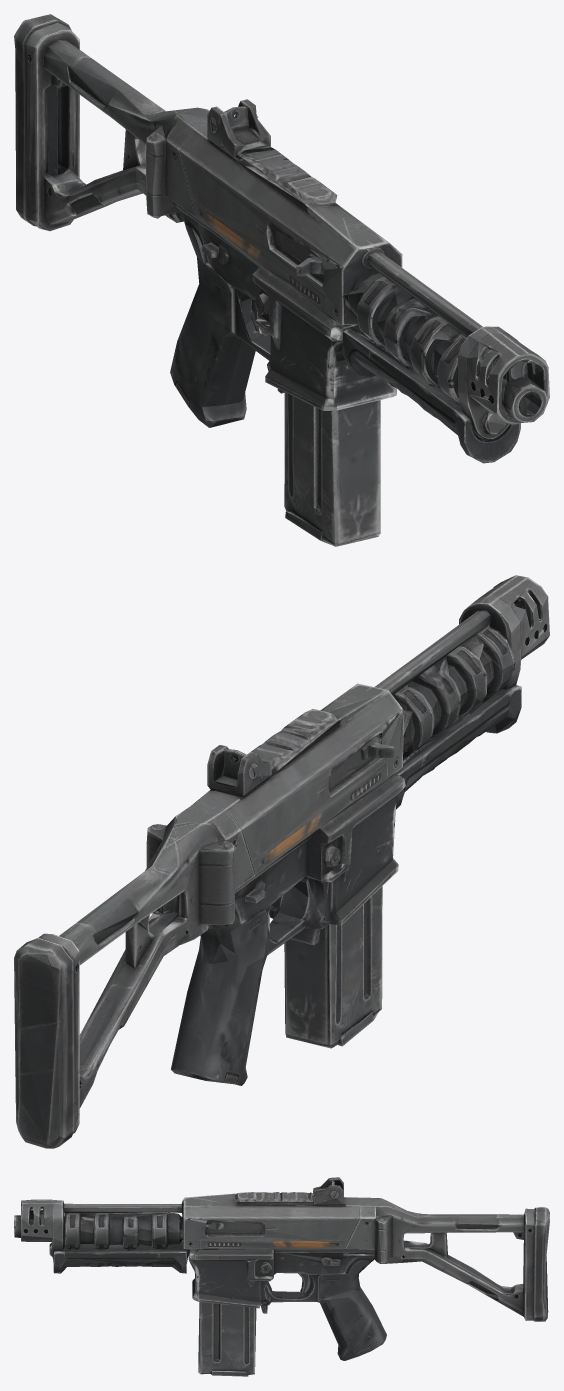
Rendered from rifle.glb.
The picture shows the model from 3 angles, top to bottom: view 1: azimuth 30°, elevation 25°; view 2: azimuth 150°, elevation 25°; view 3: azimuth 270°, elevation 25°; orthographic projection. The views are drawn at different scales.
Parts seen in each view (by area): view 1: Mesh_0; view 2: Mesh_0; view 3: Mesh_0.
Part boxes in pixels (x1,y1,x2,y2): Mesh_0: (14, 14, 549, 546); Mesh_0: (14, 575, 549, 1148); Mesh_0: (14, 1177, 549, 1376).
Size of the model in its own units: 0.1012 by 0.3672 by 0.95.
Materials: 1 (1 with a texture image).
